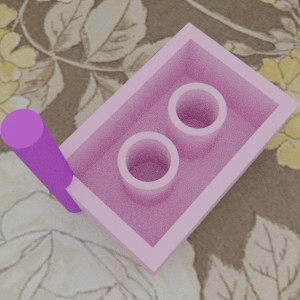lego: (39, 22, 299, 277), (0, 108, 88, 213)
